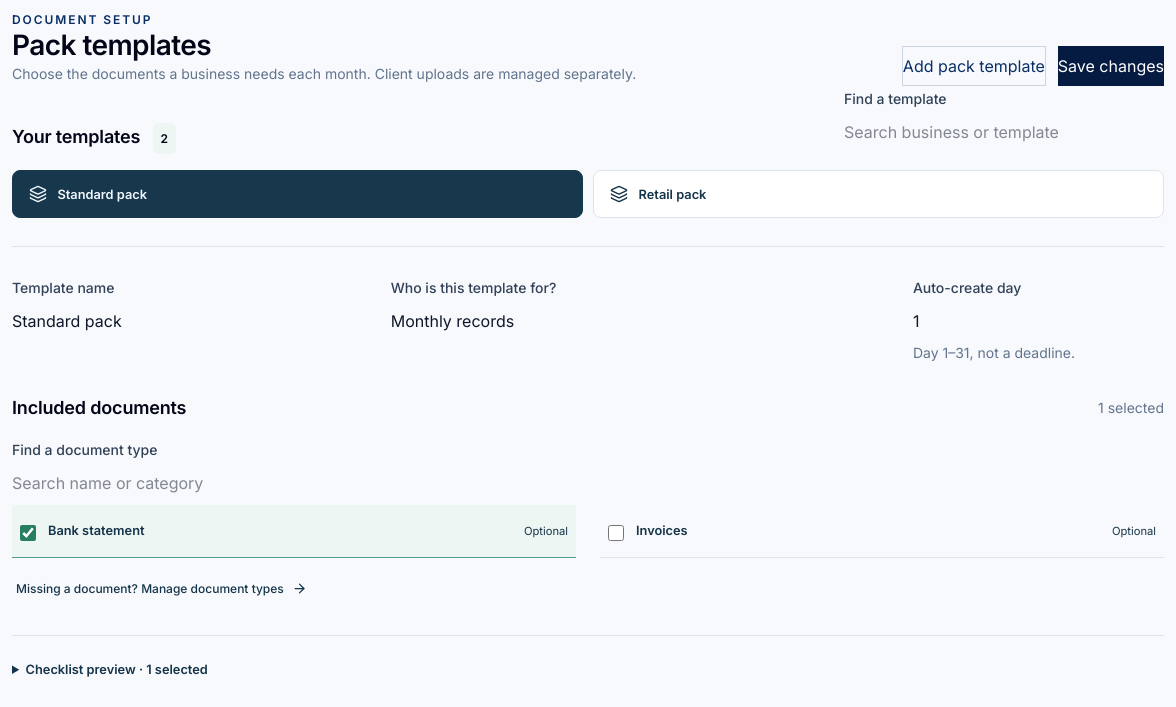
Test: admin monthly packs › keeps document selections when searching and switching templates
Expected: the field showing "Standard pack" is shown, [12,299,371,343]
Step 1. Click the checkbox labelled "Invoices" → (616,533), box [608,525,624,541]
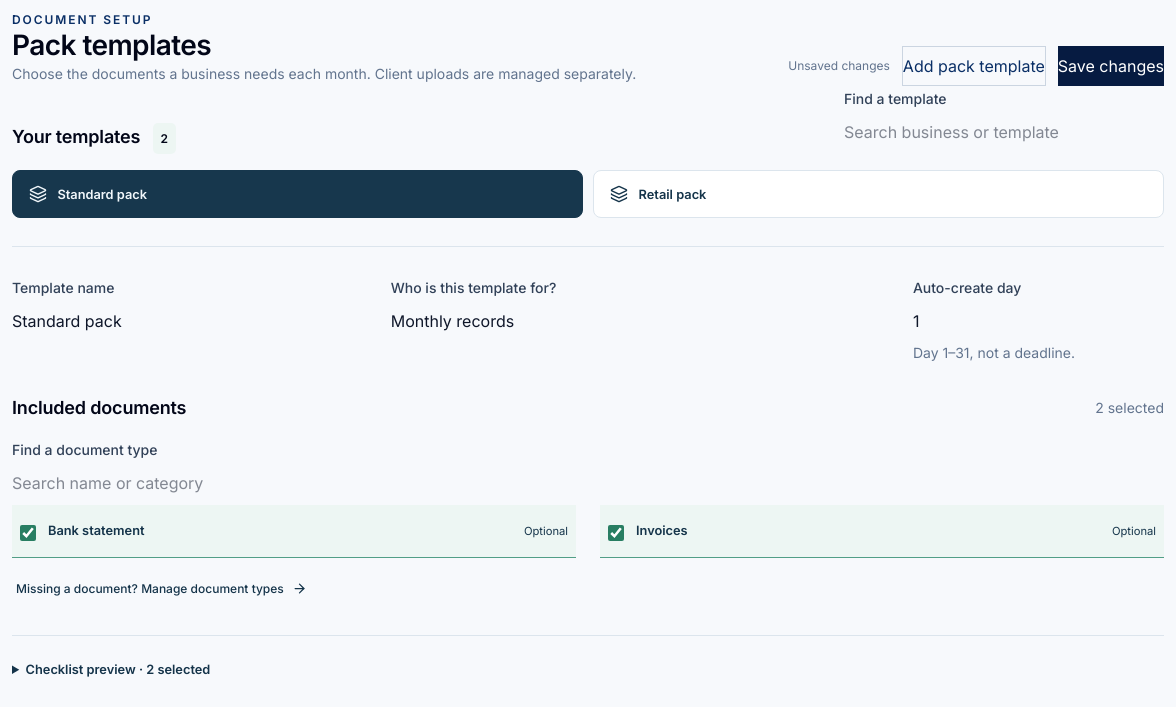
Now the heading "Checklist preview · 2 selected" is shown, box [26,662,210,678]
Step 2. Type "bank" into the field labelled "Find a document type" → (588,483), box [12,461,1164,505]
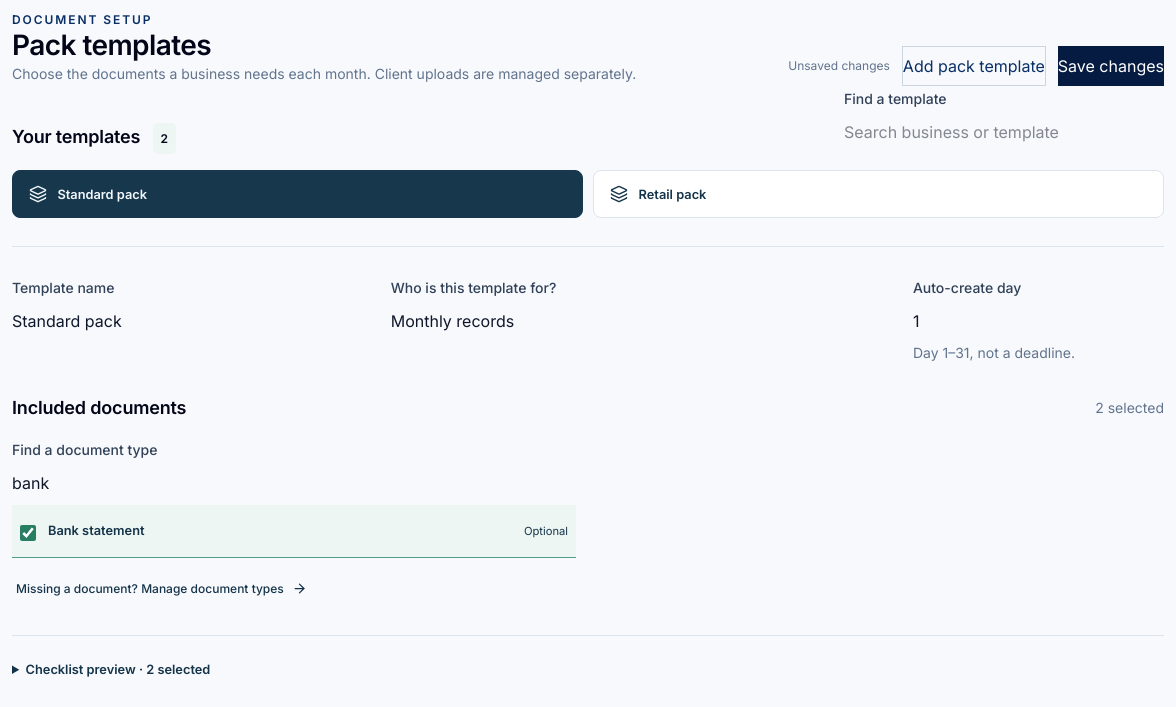
Now the text "Invoices" is gone
Step 3. Click the button "Retail pack" → (672,194), box [593,170,1164,218]
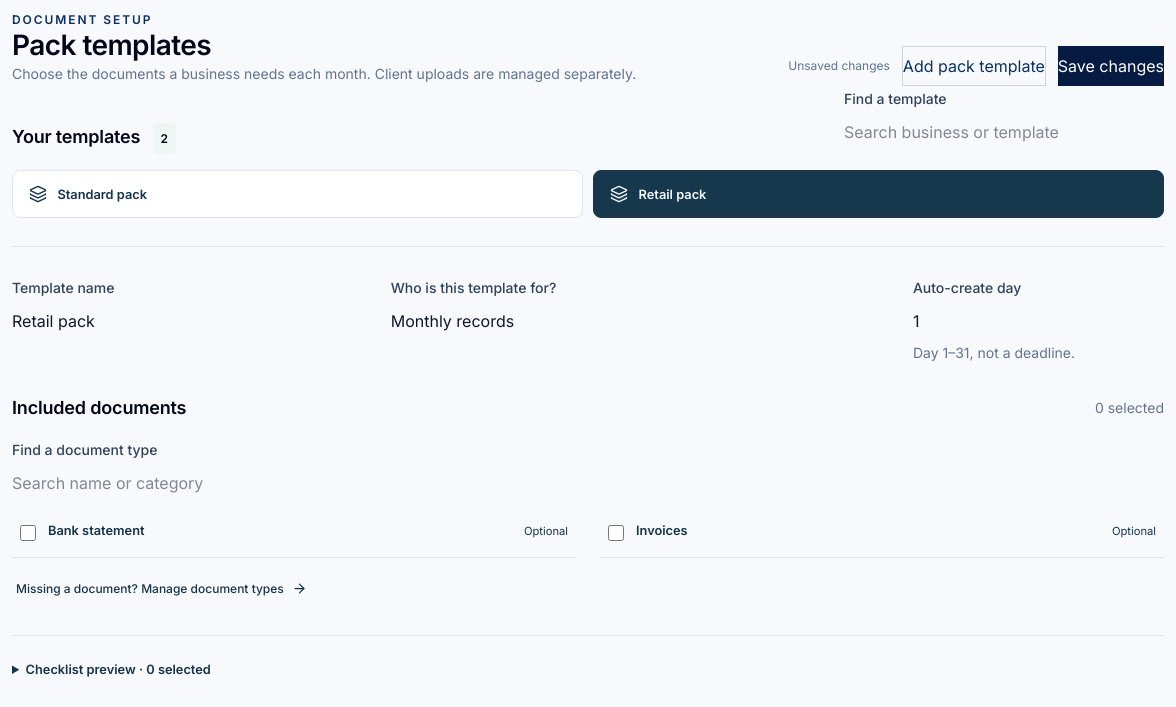
Now the checkbox labelled "Invoices" is not checked, box [608,525,624,541]
Step 4. Click the button "Standard pack" → (102,194), box [12,170,583,218]
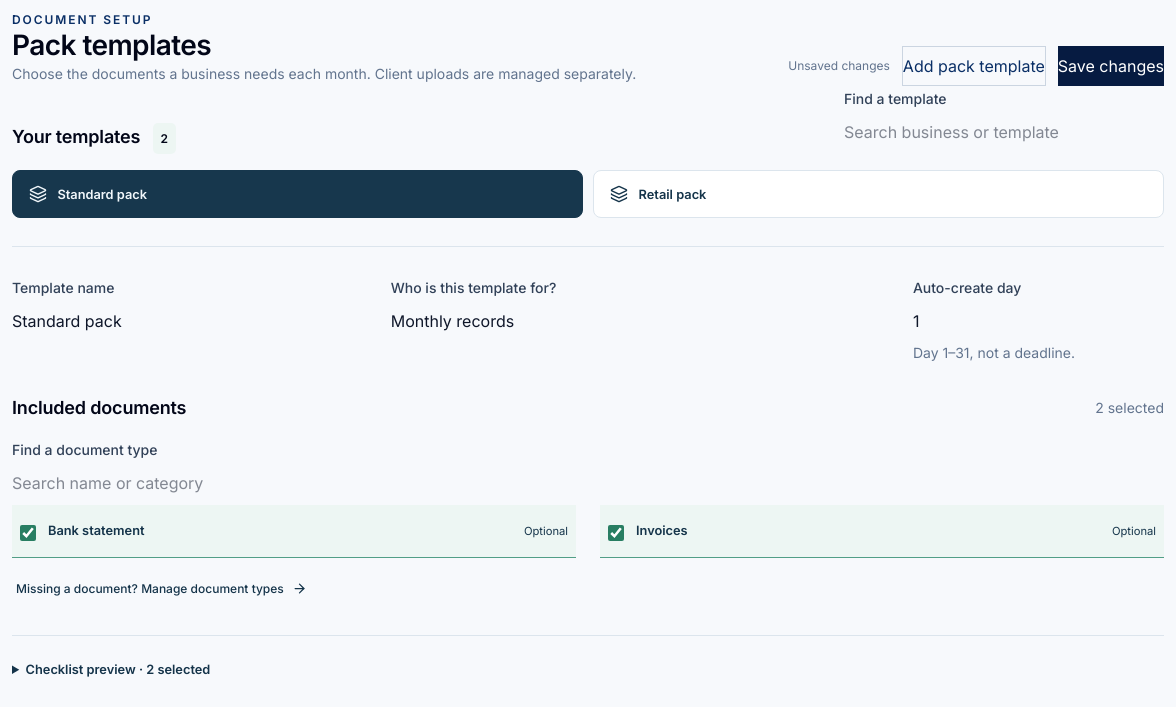
Now the checkbox labelled "Invoices" is checked, box [608,525,624,541]
Step 5. Click the button "Save changes" → (1111,66), box [1058,46,1164,86]
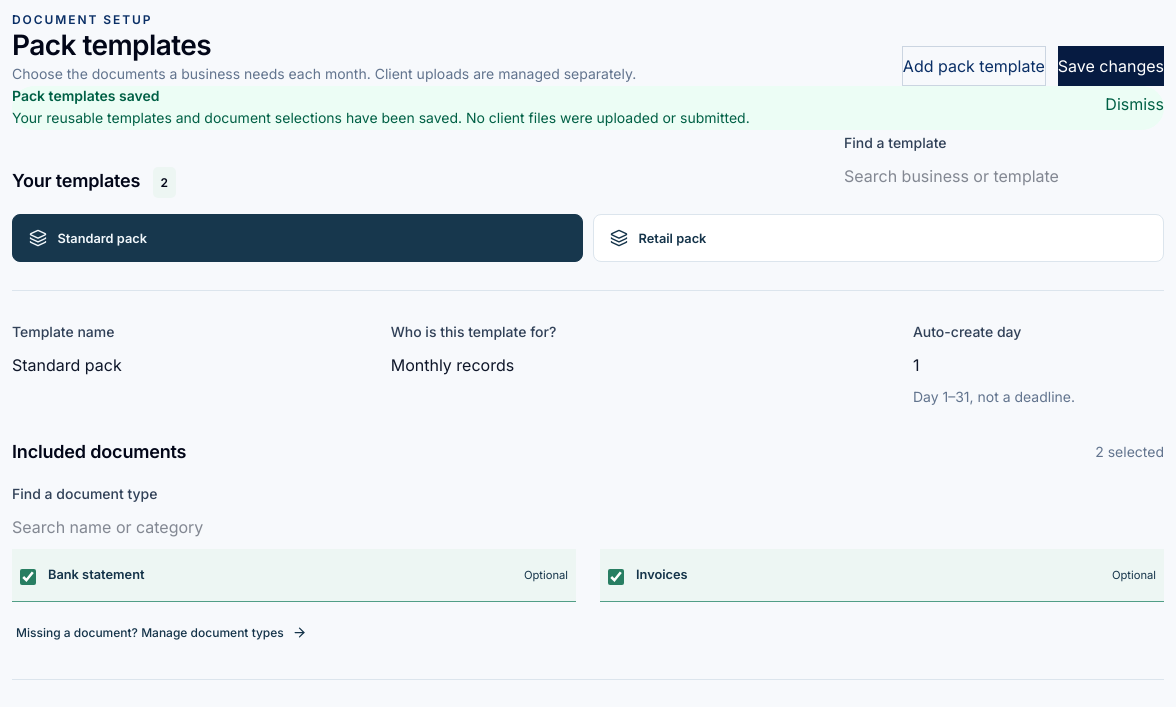
Now the text "Pack templates saved" is shown, box [12,87,160,104]
